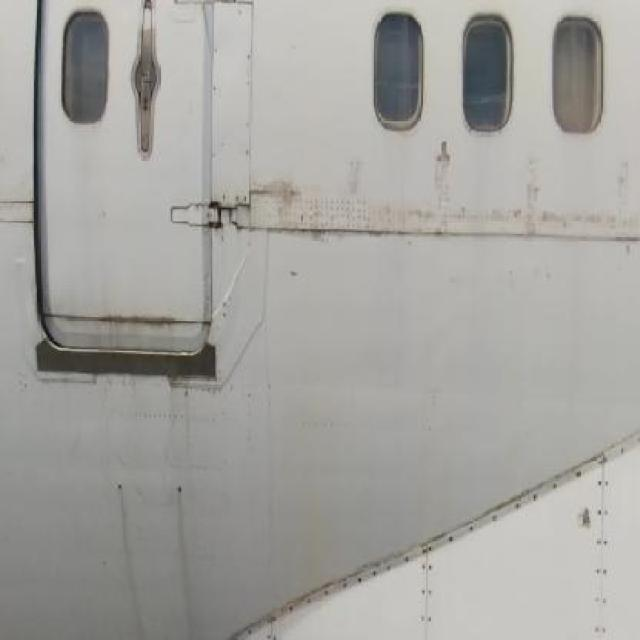Missing-Rivet: (373, 476, 532, 587), (588, 445, 621, 637)
Rust: (106, 468, 152, 630), (164, 472, 201, 633), (93, 306, 181, 342), (258, 168, 312, 226)
Scartch: (521, 164, 559, 238), (609, 150, 637, 239), (435, 126, 456, 202), (347, 154, 379, 201)
